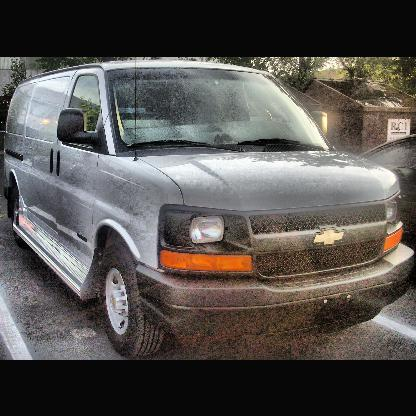Chevrolet Express Cargo Van 2007: (7, 58, 416, 356)
